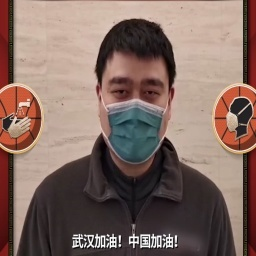correctlyWear: (95, 66, 175, 164)
